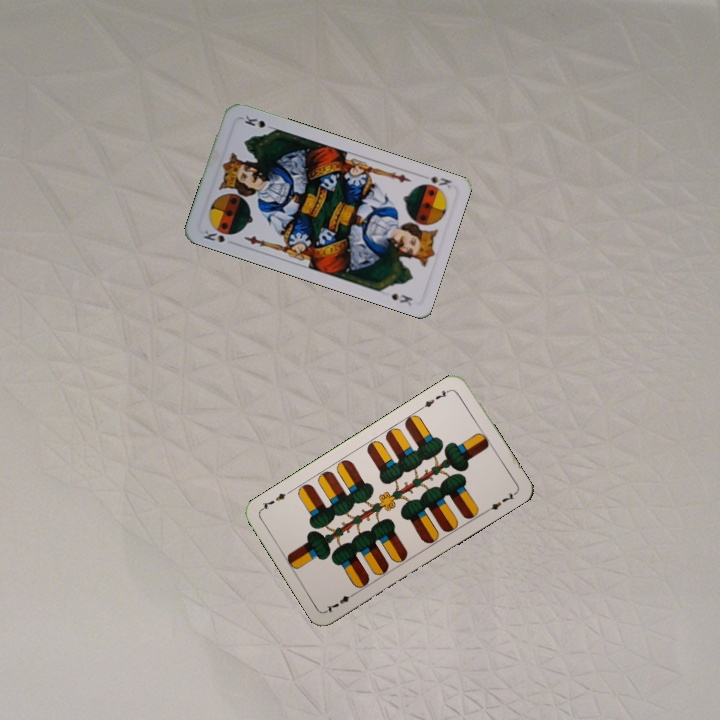E7: (417, 385, 454, 412), (322, 588, 359, 615)
SK: (199, 224, 236, 245), (426, 172, 454, 191)
